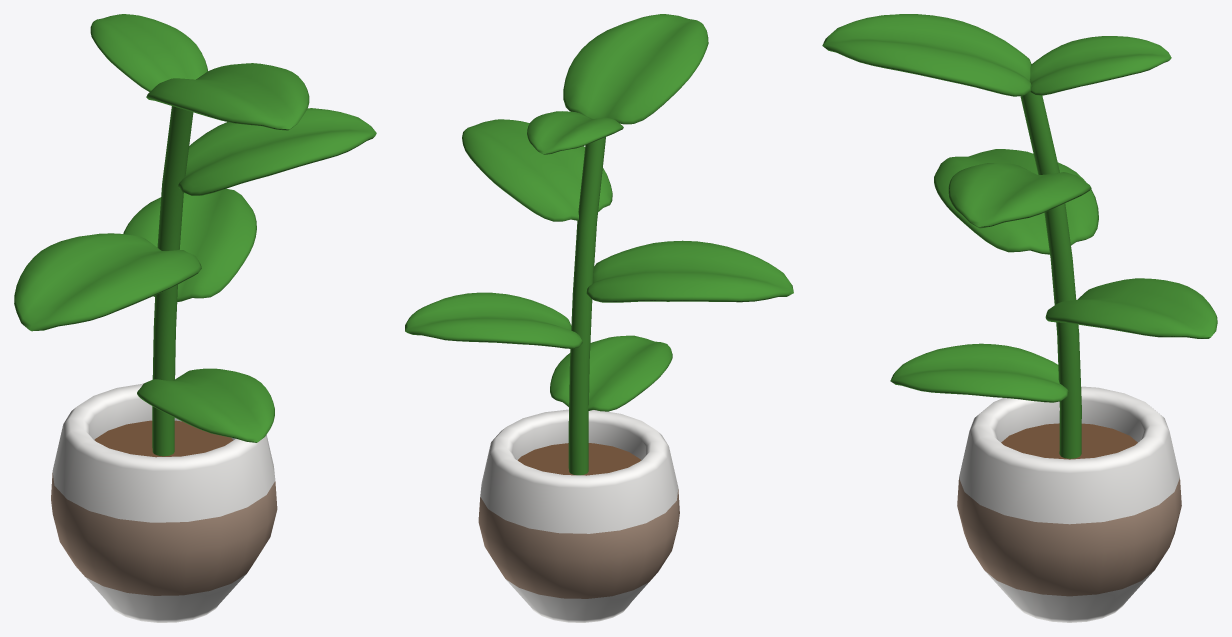
File: Vase_5.glb
The picture shows the model from 3 angles, left to right: view 1: azimuth 30°, elevation 25°; view 2: azimuth 150°, elevation 25°; view 3: azimuth 270°, elevation 25°; orthographic projection. The views are drawn at different scales.
Parts seen in each view (by area): view 1: Plant_17; view 2: Plant_17; view 3: Plant_17.
Part boxes in pixels (left/top/right/bottom): Plant_17: left=14, top=14, right=376, bottom=622; Plant_17: left=405, top=14, right=793, bottom=622; Plant_17: left=822, top=14, right=1217, bottom=622.
Bounding box in the file's own units: 1.16 × 1.79 × 1.13.
Materials: 1 (1 with a texture image).
